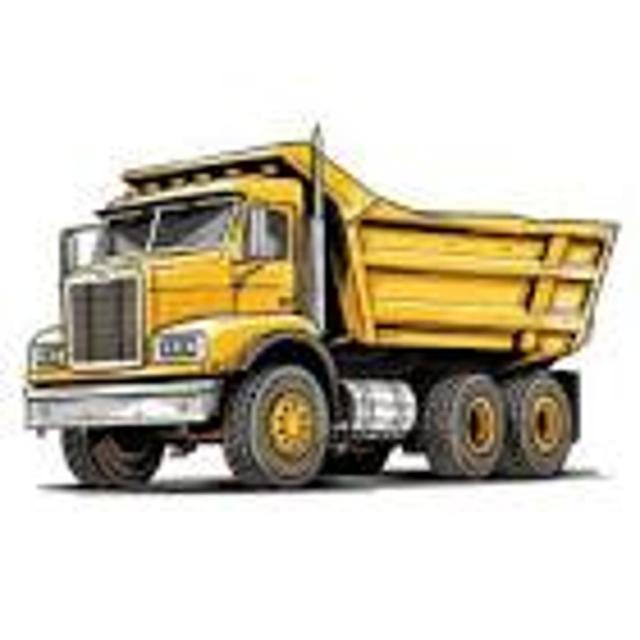dump_truck: (17, 120, 625, 493)
